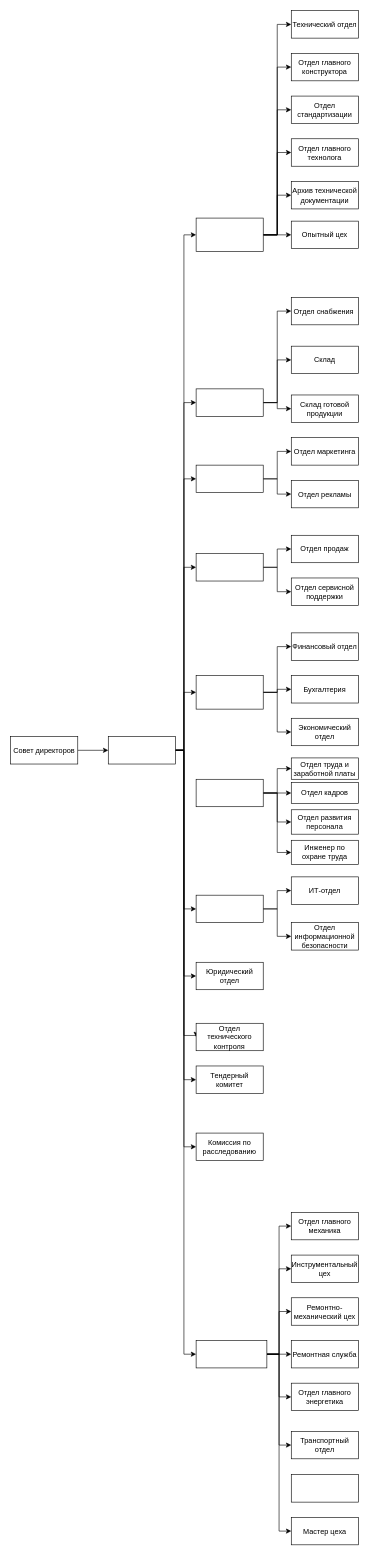
Some shapes in this 369 by 1556 pixel diagram are drawn without their labels. The shapes that lost their labels are listed below. From the top down, each one's centre as x and y in pixels, then its label:
At point (229, 234): "Директор по техническому развитию и качеству".
At point (229, 402): "Директор по закупкам".
At point (229, 479): "Директор по маркетингу".
At point (229, 567): "Директор по продажам".
At point (229, 692): "Заместитель генерального директора по финансам и экономике".
At point (141, 750): "Генеральный директор".
At point (229, 793): "Директор по работе с персоналом".
At point (229, 909): "ИТ-директор".
At point (231, 1354): "Главный инженер".
At point (324, 1488): "Диспетчерский отдел".
